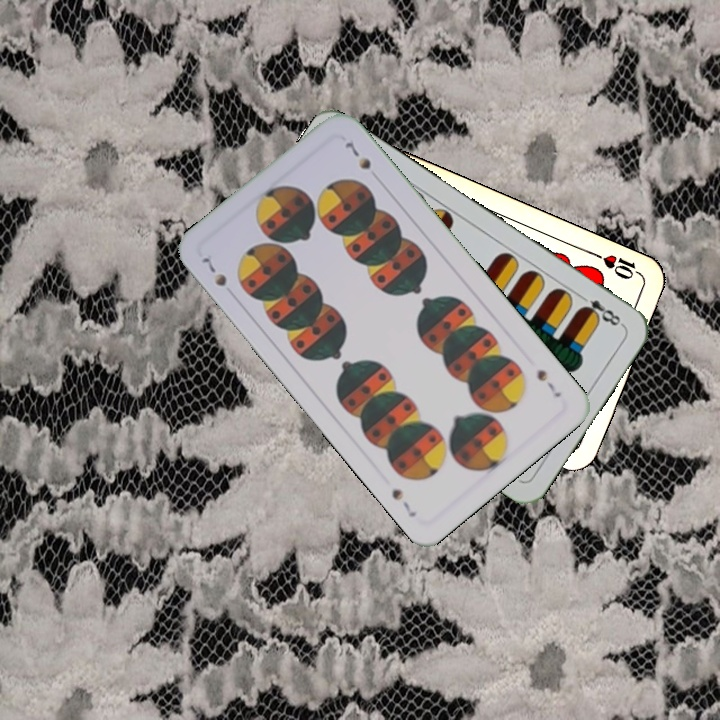E8: (574, 289, 626, 329)
H10: (589, 248, 645, 283)
S7: (197, 253, 229, 289), (533, 365, 565, 400)
